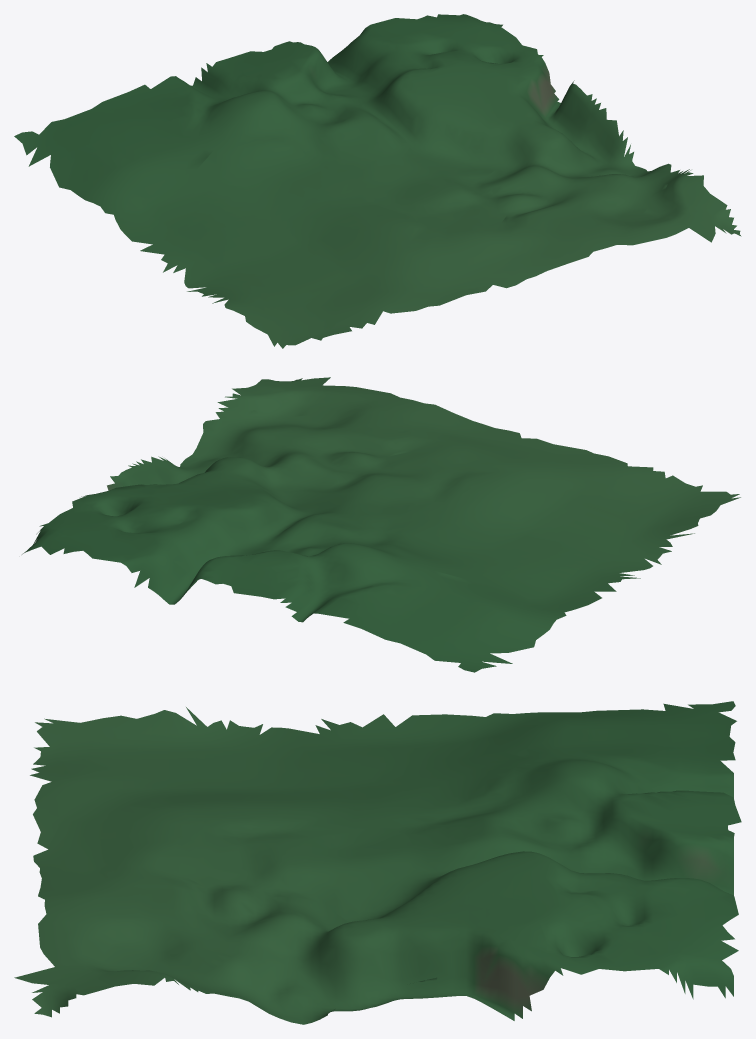
The model's file is payo_land_xm1_y7.glb.
3 renders of one model, top to bottom at view 1: azimuth 30°, elevation 25°; view 2: azimuth 150°, elevation 25°; view 3: azimuth 270°, elevation 25°, orthographic. The views are drawn at different scales.
Parts seen in each view (by area): view 1: payo_land_xm1_y7; view 2: payo_land_xm1_y7; view 3: payo_land_xm1_y7.
Boxes of the visible parts, x1,y1,x2,y2 form: payo_land_xm1_y7: (14,14,741,348); payo_land_xm1_y7: (22,377,740,672); payo_land_xm1_y7: (14,701,741,1024).
Size of the model in its own units: 267 by 32.08 by 269.
